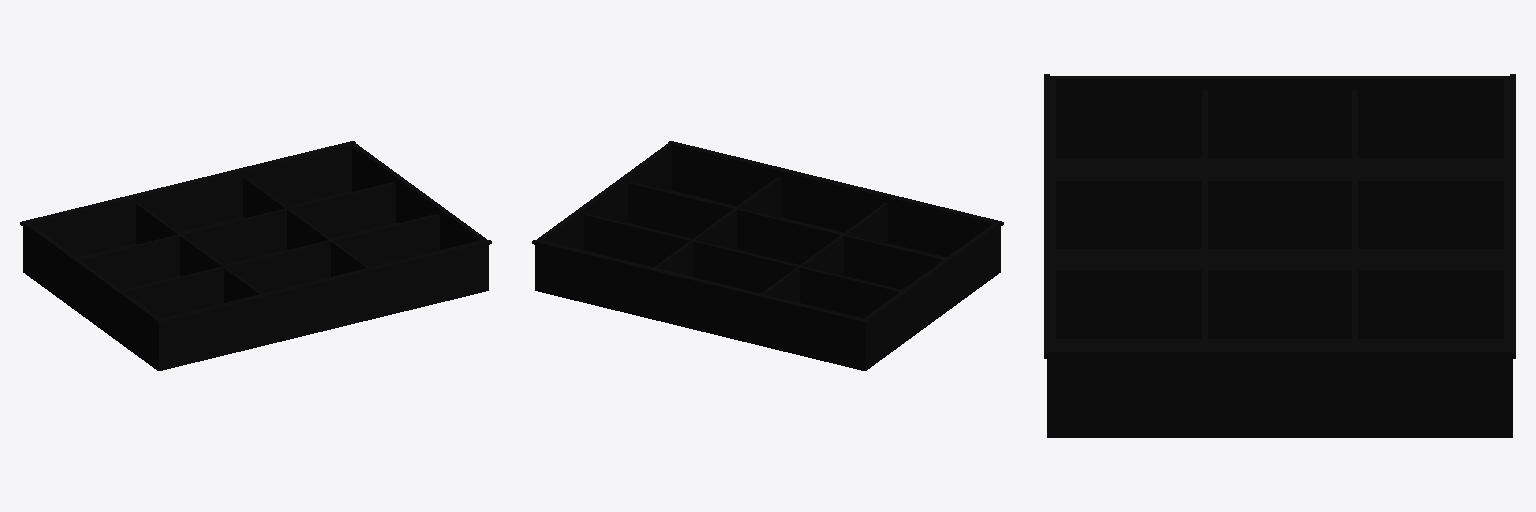
The robot description file, URDF, robot "nova_environment_object_0299":
<?xml version="1.0" encoding="utf-8"?>
<!-- Nova movable environment body for the bundled PyBullet launcher. SI metres/kg/radians. Loaded at its body origin; hinge/slider bodies use a fixed world_anchor base with one passive joint. Inertia is about COM. -->
<robot name="nova_environment_object_0299">
  <link name="body">
    <inertial>
      <origin xyz="0 0 0.02" rpy="0 0 0" />
      <mass value="0.55" />
      <inertia ixx="0.00488697917" iyy="0.00947489583" izz="0.0139745833" ixy="0" ixz="0" iyz="0" />
    </inertial>
    <visual>
      <origin xyz="0 0 0" rpy="0 0 0" />
      <geometry>
        <mesh filename="object_0299.obj" />
      </geometry>
      <material name="surface">
        <color rgba="0.08 0.08 0.08 1" />
      </material>
    </visual>
    <collision>
      <origin xyz="0 0 0" rpy="0 0 0" />
      <geometry>
        <mesh filename="object_0299_collision_00.obj" />
      </geometry>
    </collision>
    <collision>
      <origin xyz="0 0 0" rpy="0 0 0" />
      <geometry>
        <mesh filename="object_0299_collision_01.obj" />
      </geometry>
    </collision>
    <collision>
      <origin xyz="0 0 0" rpy="0 0 0" />
      <geometry>
        <mesh filename="object_0299_collision_02.obj" />
      </geometry>
    </collision>
    <collision>
      <origin xyz="0 0 0" rpy="0 0 0" />
      <geometry>
        <mesh filename="object_0299_collision_03.obj" />
      </geometry>
    </collision>
    <collision>
      <origin xyz="0 0 0" rpy="0 0 0" />
      <geometry>
        <mesh filename="object_0299_collision_04.obj" />
      </geometry>
    </collision>
    <collision>
      <origin xyz="0 0 0" rpy="0 0 0" />
      <geometry>
        <mesh filename="object_0299_collision_05.obj" />
      </geometry>
    </collision>
    <collision>
      <origin xyz="0 0 0" rpy="0 0 0" />
      <geometry>
        <mesh filename="object_0299_collision_06.obj" />
      </geometry>
    </collision>
    <collision>
      <origin xyz="0 0 0" rpy="0 0 0" />
      <geometry>
        <mesh filename="object_0299_collision_07.obj" />
      </geometry>
    </collision>
    <collision>
      <origin xyz="0 0 0" rpy="0 0 0" />
      <geometry>
        <mesh filename="object_0299_collision_08.obj" />
      </geometry>
    </collision>
  </link>
</robot>

--- Facts derived from the render (not from the file) ---
Views: 3 orthographic renders of the robot side by side, from view 1: azimuth 30°, elevation 25°; view 2: azimuth 150°, elevation 25°; view 3: azimuth 270°, elevation 25°.
Model nova_environment_object_0299 with 1 links and 0 joints (none), rooted at body, posed all joints at 0.
Links seen in each view (by area): view 1: body; view 2: body; view 3: body.
Boxes of the visible links, x1,y1,x2,y2 form: body: [20, 141, 491, 370]; body: [532, 141, 1003, 370]; body: [1044, 74, 1515, 437].
Size in the robot's own frame: 0.454 by 0.324 by 0.065 metres.
1 mesh visuals loaded from 1 distinct referenced files (1 OBJ).
